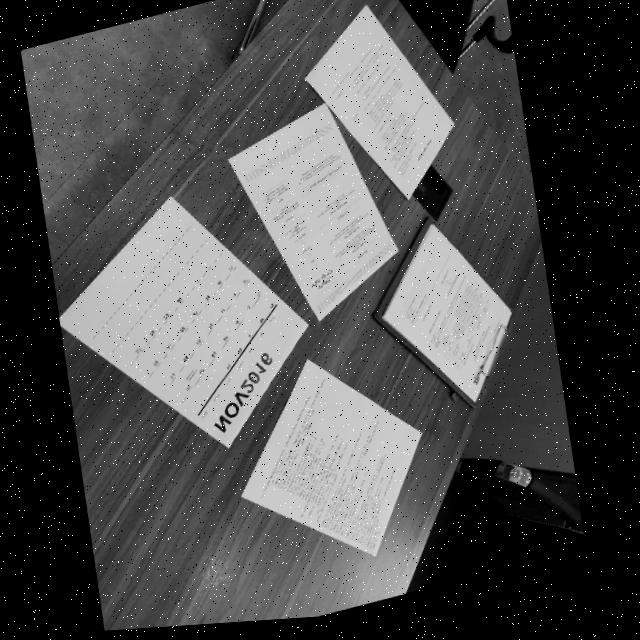document: (60, 197, 308, 447), (229, 104, 398, 321), (243, 360, 421, 555), (305, 5, 454, 199), (382, 223, 512, 403)
